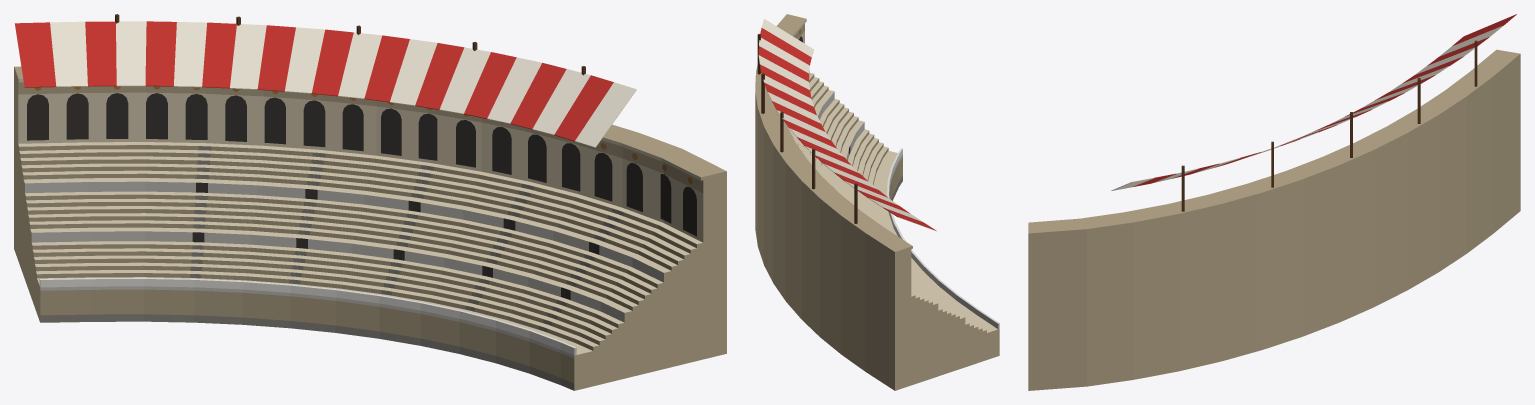
The model's file is SM_ColCavea_0.fbx.
3 renders of one model, left to right at view 1: azimuth 30°, elevation 25°; view 2: azimuth 150°, elevation 25°; view 3: azimuth 270°, elevation 25°, orthographic. The views are drawn at different scales.
Visible parts, largest first — view 1: SM_ColCavea_0; view 2: SM_ColCavea_0; view 3: SM_ColCavea_0.
Part boxes in pixels (box(x1,y1,x2,y2)): SM_ColCavea_0: box(14, 14, 726, 390); SM_ColCavea_0: box(755, 14, 999, 390); SM_ColCavea_0: box(1028, 14, 1520, 390).
Size of the model in its own units: 61.49 by 62.87 by 28.5.
